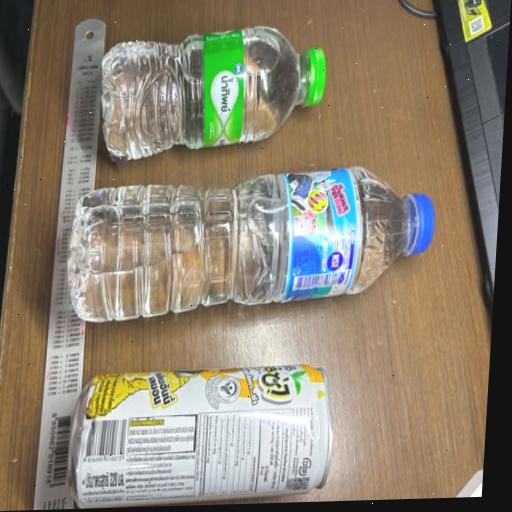bottle: (48, 144, 453, 351), (84, 1, 343, 179)
canned: (61, 339, 358, 509)
